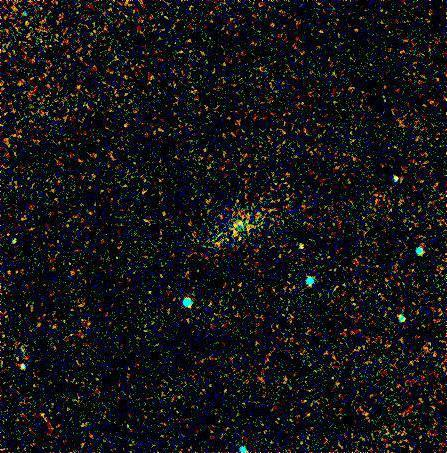star: (285, 229, 315, 259)
